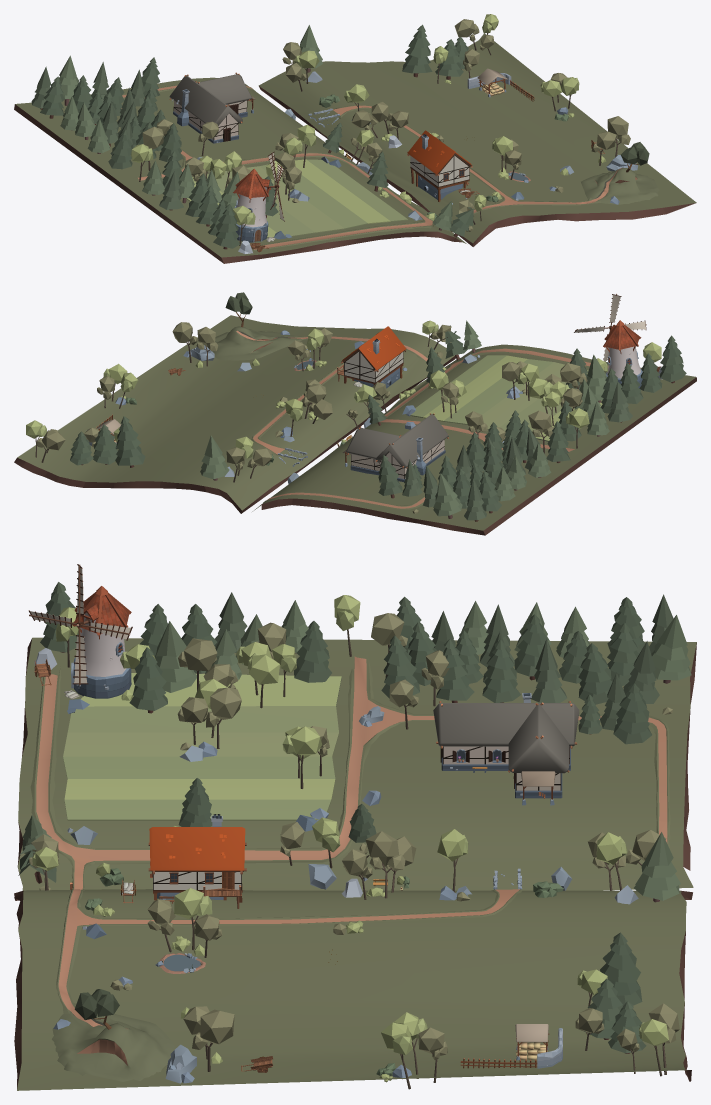
Rendered from Farm02blend.fbx.
3 renders of one model, top to bottom at view 1: azimuth 30°, elevation 25°; view 2: azimuth 150°, elevation 25°; view 3: azimuth 270°, elevation 25°, orthographic. The views are drawn at different scales.
Parts seen in each view (by area): view 1: Scene, Scene.001, Scene.003, Mill-wind-wheel; view 2: Scene, Scene.001, Scene.003, Mill-wind-wheel; view 3: Scene.001, Scene, Scene.003, Mill-wind-wheel.
Part boxes in pixels (<box>): Scene: <box>258,14,696,246</box>; Scene.001: <box>14,55,473,263</box>; Scene.003: <box>169,72,255,143</box>; Mill-wind-wheel: <box>267,151,285,221</box>; Scene: <box>14,292,455,513</box>; Scene.001: <box>252,320,696,535</box>; Scene.003: <box>342,413,448,481</box>; Mill-wind-wheel: <box>574,293,646,361</box>; Scene.001: <box>17,582,696,890</box>; Scene: <box>14,814,692,1090</box>; Scene.003: <box>433,693,579,805</box>; Mill-wind-wheel: <box>28,564,132,685</box>.
Size of the model in its own units: 5198 by 1450 by 4087.
Materials: 2 (2 with a texture image).
